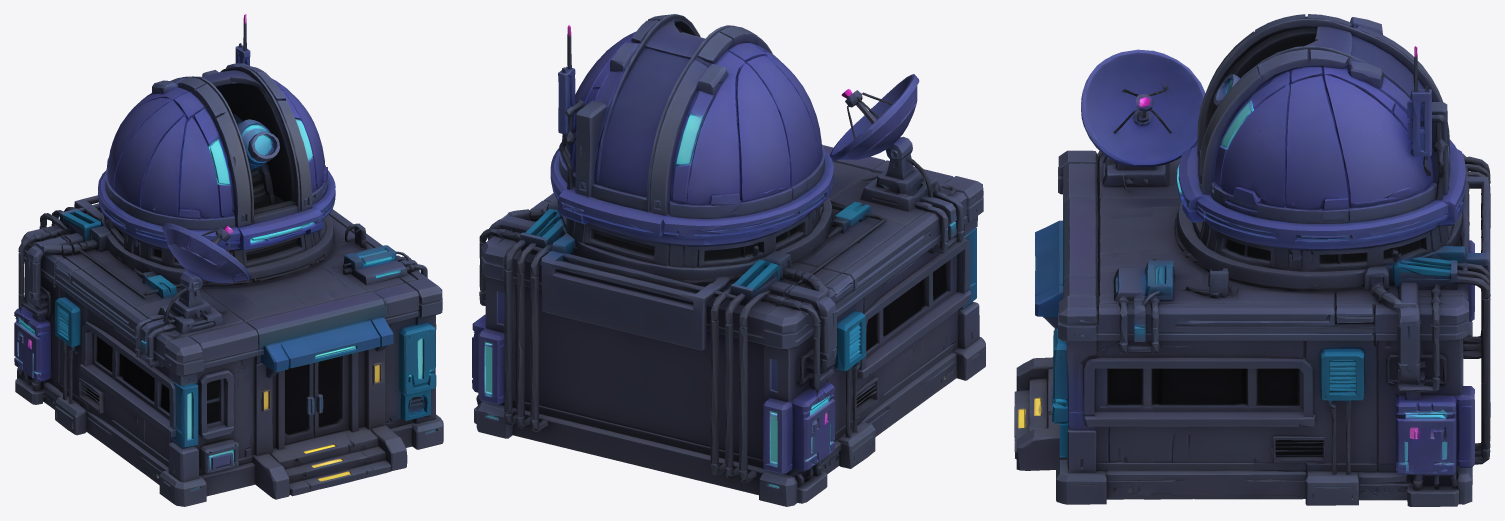
File: source.glb
3 renders of one model, left to right at view 1: azimuth 30°, elevation 25°; view 2: azimuth 150°, elevation 25°; view 3: azimuth 270°, elevation 25°, orthographic. The views are drawn at different scales.
Parts seen in each view (by area): view 1: model; view 2: model; view 3: model.
Part boxes in pixels (<box>): model: <box>14,14,443,506</box>; model: <box>472,14,985,506</box>; model: <box>1014,14,1490,506</box>.
Bounding box in the file's own units: 1.64 × 1.85 × 1.89.
1 material, 1 textured.
